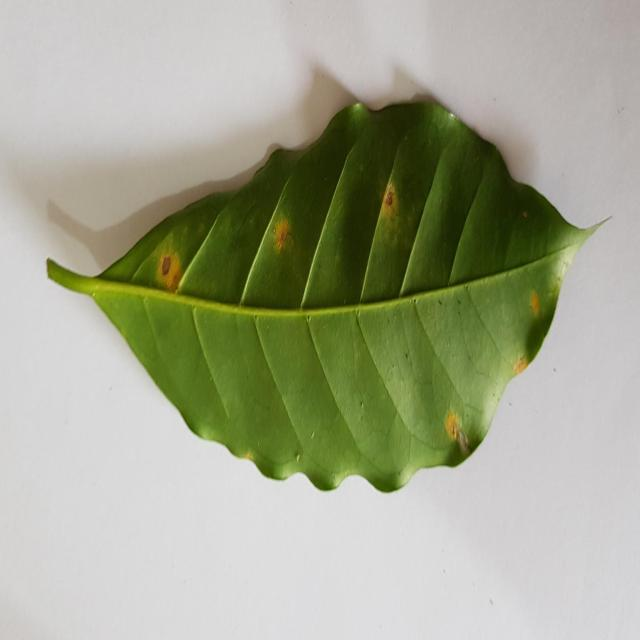rust: (146, 235, 187, 292), (376, 168, 404, 251), (442, 409, 482, 467), (266, 215, 304, 261), (511, 327, 534, 379), (528, 278, 553, 324)
